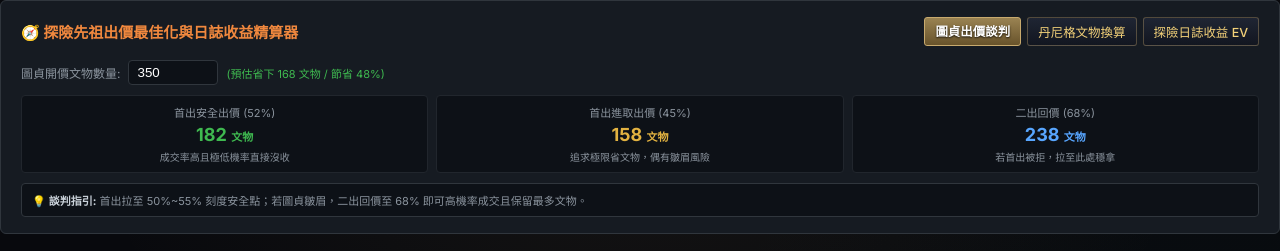
Scenario: ExpeditionOptimizerCard › should update Tujen offer when asking price changes
The width and height of the screenshot is (1280, 251).
Replace the text in the number field showing "350" with "1000" at (174, 72), box [128, 60, 218, 85]
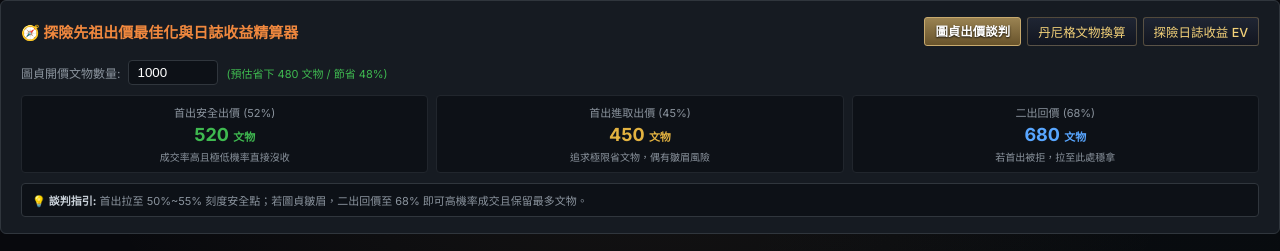
Result: the text "520" is shown at [194, 124, 229, 145]
Result: the text "680" is shown at [1024, 124, 1060, 145]
